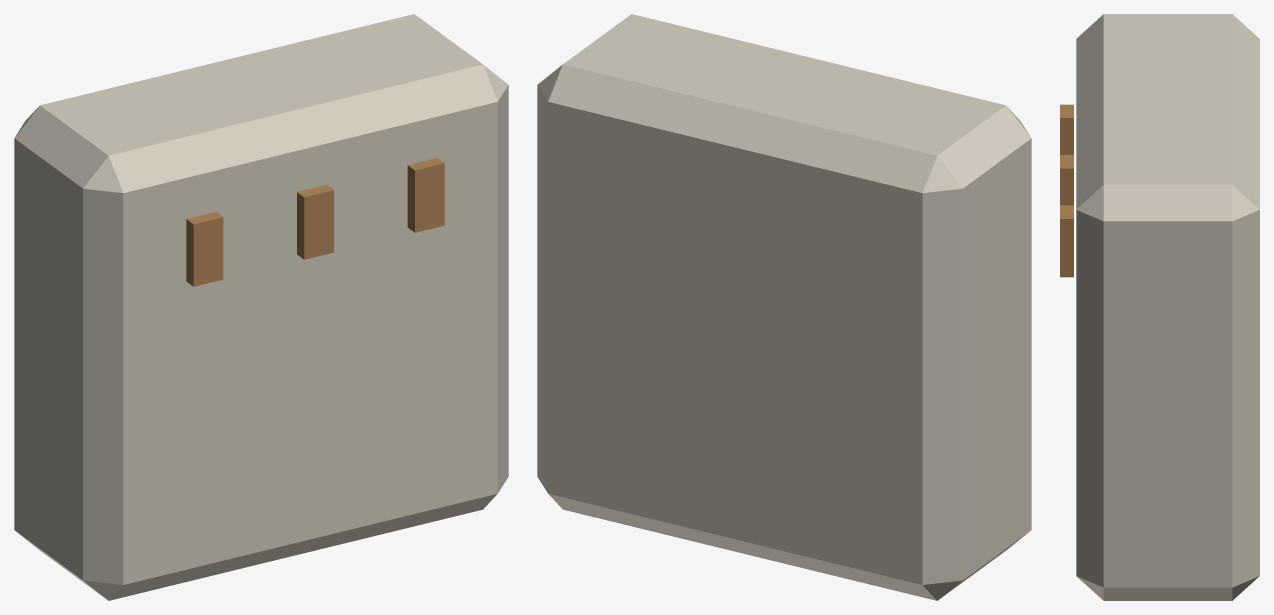
Rendered from hinge.glb.
3 renders of one model, left to right at view 1: azimuth 30°, elevation 25°; view 2: azimuth 150°, elevation 25°; view 3: azimuth 270°, elevation 25°, orthographic. The views are drawn at different scales.
Parts seen in each view (by area): view 1: hinge; view 2: hinge; view 3: hinge.
Boxes of the visible parts, x1,y1,x2,y2 form: hinge: [14, 14, 508, 600]; hinge: [537, 14, 1031, 600]; hinge: [1060, 14, 1259, 600].
Size of the model in its own units: 0.225 by 0.225 by 0.0979.
